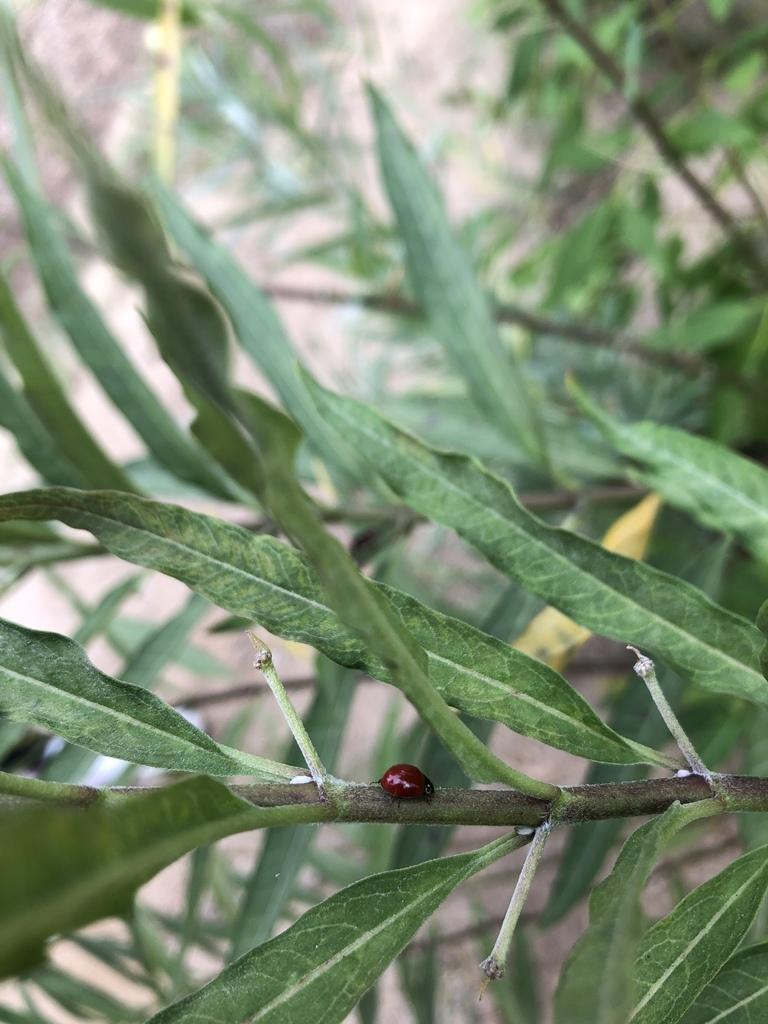ladybug: (370, 763, 440, 810)
